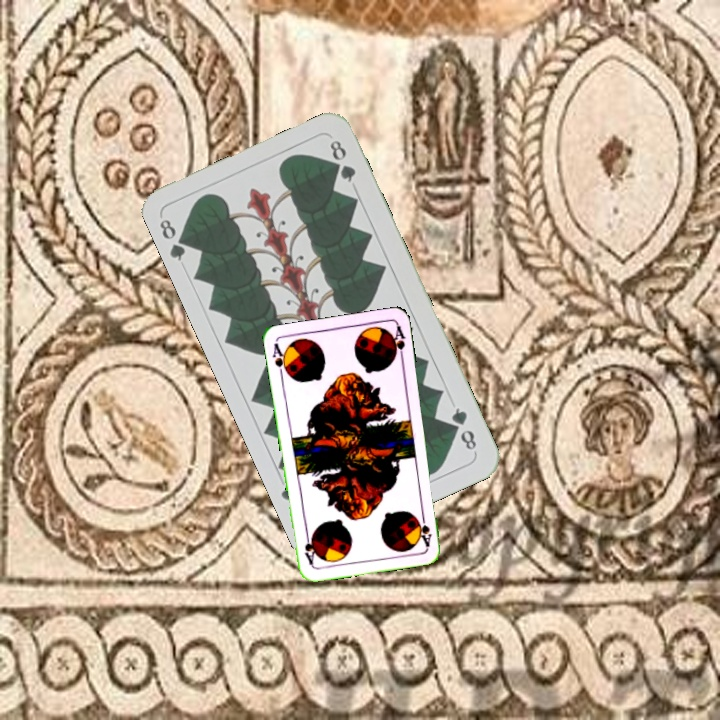G8: (155, 215, 194, 264), (447, 403, 480, 453)
SA: (268, 340, 291, 380), (416, 508, 434, 549)
